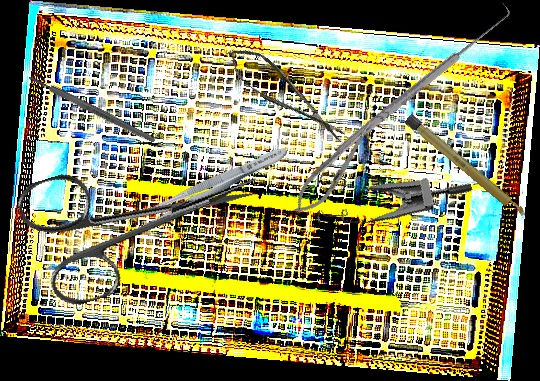Dressing Forceps: (130, 140, 292, 235)
Hook Surgical: (329, 0, 516, 158)
Iris Scissors: (13, 120, 276, 314)
Micro Scissor: (220, 36, 352, 155)
Needle Holder: (285, 112, 385, 223)
Scalpel Handle: (403, 113, 529, 221), (27, 73, 157, 145)
Speculum: (300, 120, 475, 254)
